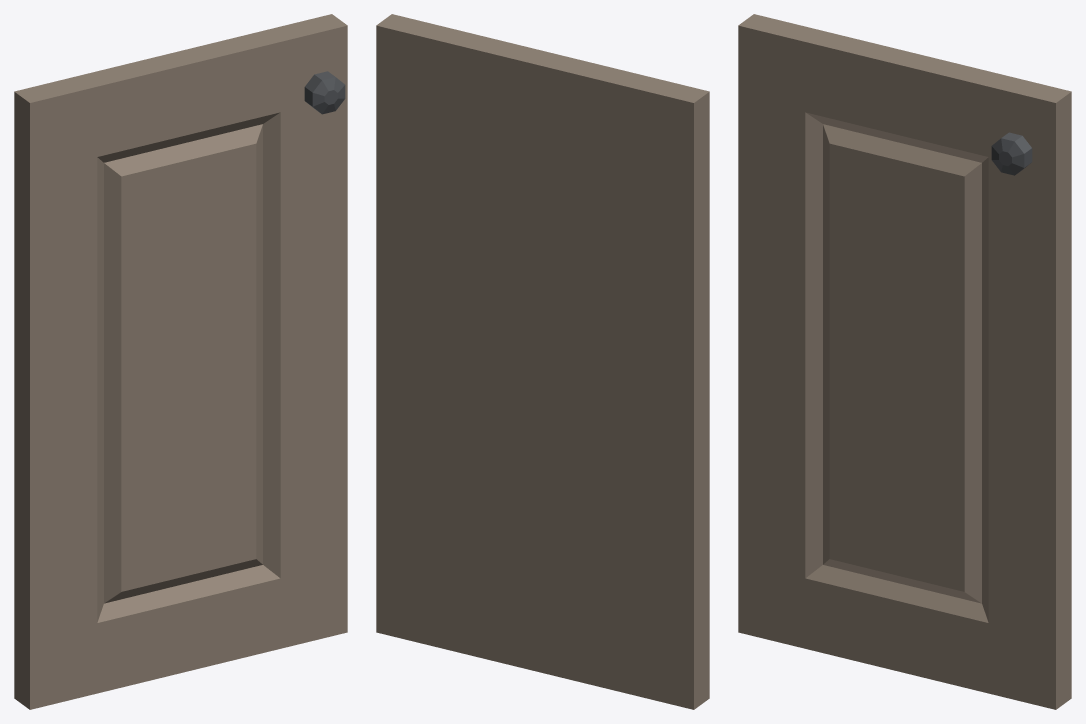
Rendered from Door3_C5_10.fbx.
3 views of the same model, side by side, from view 1: azimuth 30°, elevation 25°; view 2: azimuth 150°, elevation 25°; view 3: azimuth 330°, elevation 25° (orthographic).
Visible parts, largest first — view 1: Door3_C5_10; view 2: Door3_C5_10; view 3: Door3_C5_10.
Boxes of the visible parts, bbox=[...] form: Door3_C5_10: bbox=[14, 14, 347, 709]; Door3_C5_10: bbox=[376, 14, 709, 709]; Door3_C5_10: bbox=[738, 14, 1071, 709].
Size of the model in its own units: 29 by 52.92 by 5.19.
